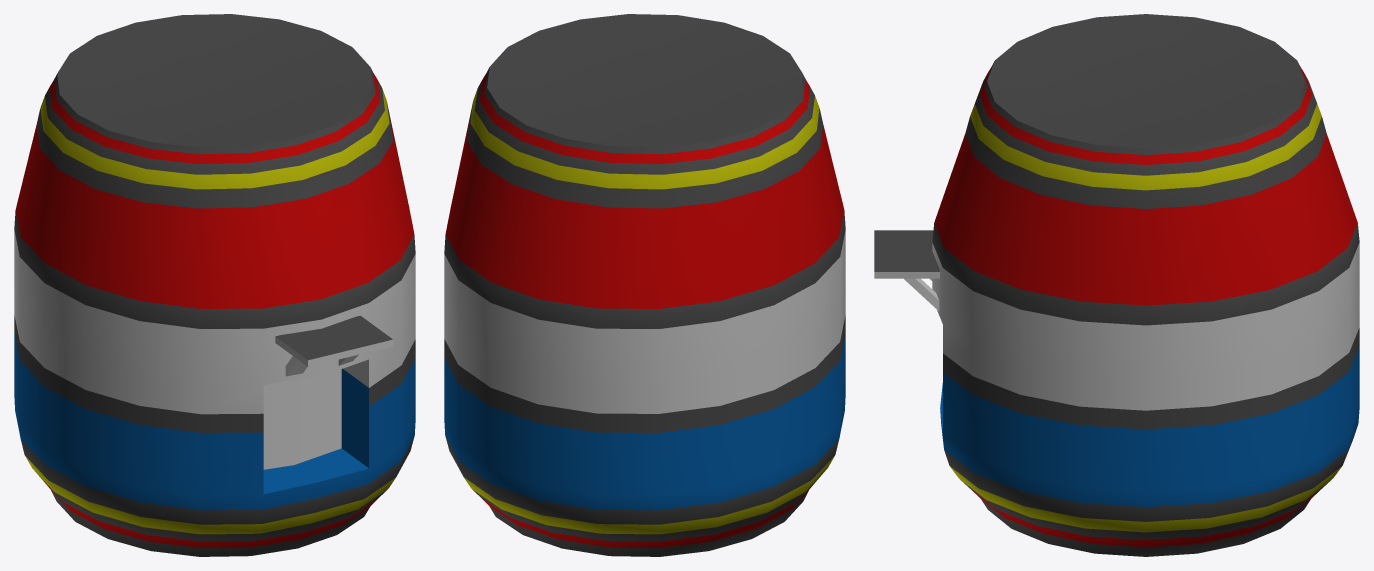
Rendered from CiderBarrelEdit.fbx.
3 renders of one model, left to right at view 1: azimuth 30°, elevation 25°; view 2: azimuth 150°, elevation 25°; view 3: azimuth 270°, elevation 25°, orthographic.
Parts seen in each view (by area): view 1: CiderBarrel, pCube145; view 2: CiderBarrel; view 3: CiderBarrel, pCube145.
Boxes of the visible parts, <box> form: CiderBarrel: <box>14,14,415,556</box>; pCube145: <box>275,315,393,366</box>; CiderBarrel: <box>444,14,845,556</box>; CiderBarrel: <box>932,14,1359,556</box>; pCube145: <box>874,230,939,278</box>.
Bounding box in the file's own units: 52.65 × 60.04 × 64.79.
